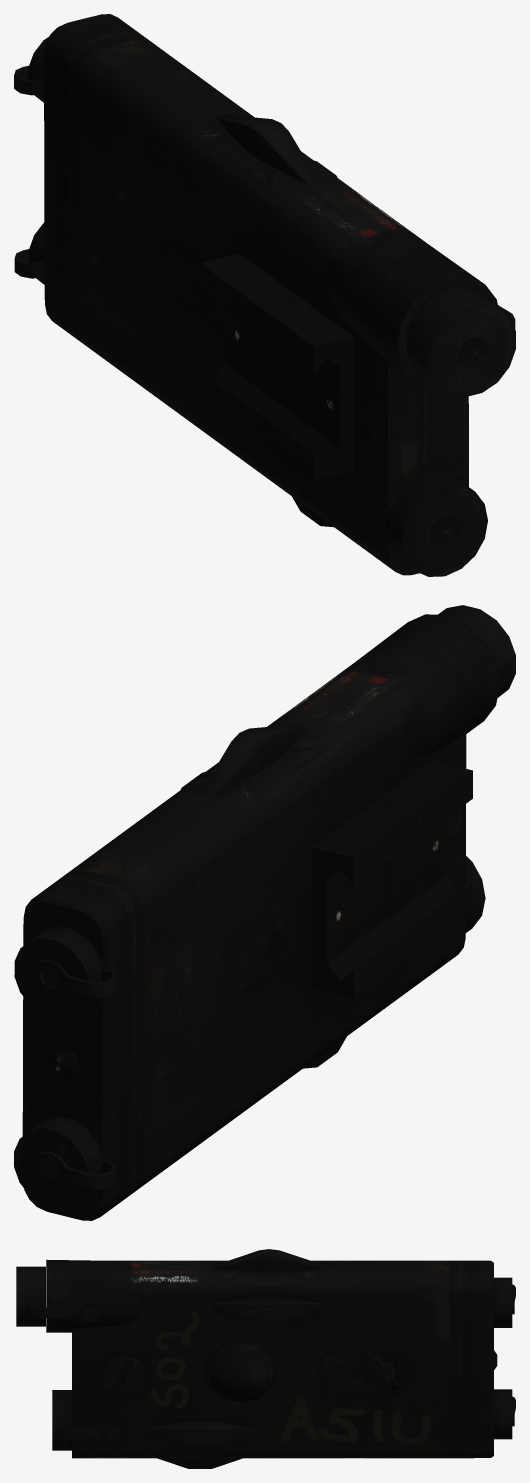
File: LASERPOINTER.FBX
3 views of the same model, one above another, from view 1: azimuth 30°, elevation 25°; view 2: azimuth 150°, elevation 25°; view 3: azimuth 270°, elevation 25° (orthographic). The views are drawn at different scales.
Visible parts, largest first — view 1: Mesh_0024; view 2: Mesh_0024; view 3: Mesh_0024.
Boxes of the visible parts, x1,y1,x2,y2 form: Mesh_0024: [14, 14, 515, 576]; Mesh_0024: [14, 605, 515, 1220]; Mesh_0024: [16, 1249, 515, 1468].
Size of the model in its own units: 2.81 by 6.46 by 13.85.
